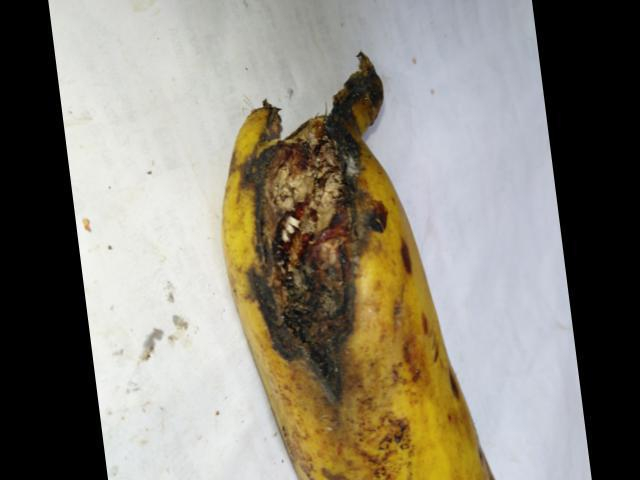rotten: (193, 69, 455, 421)
